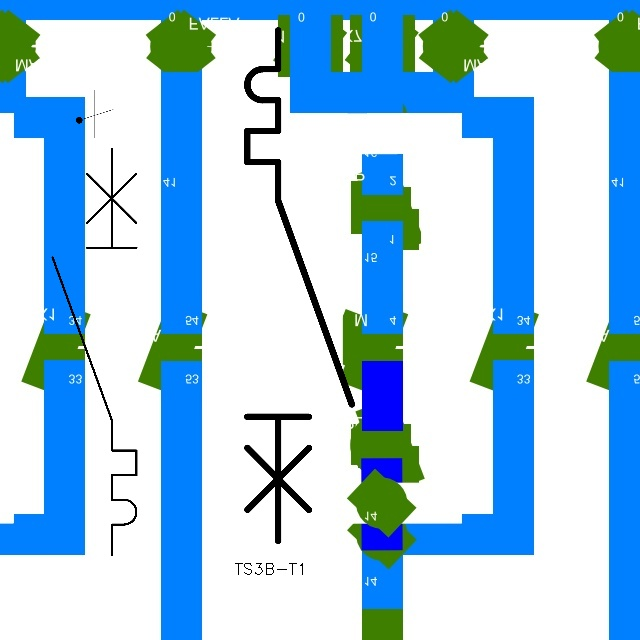interruptor_termomagnetico: (234, 17, 365, 554), (42, 138, 147, 566)
